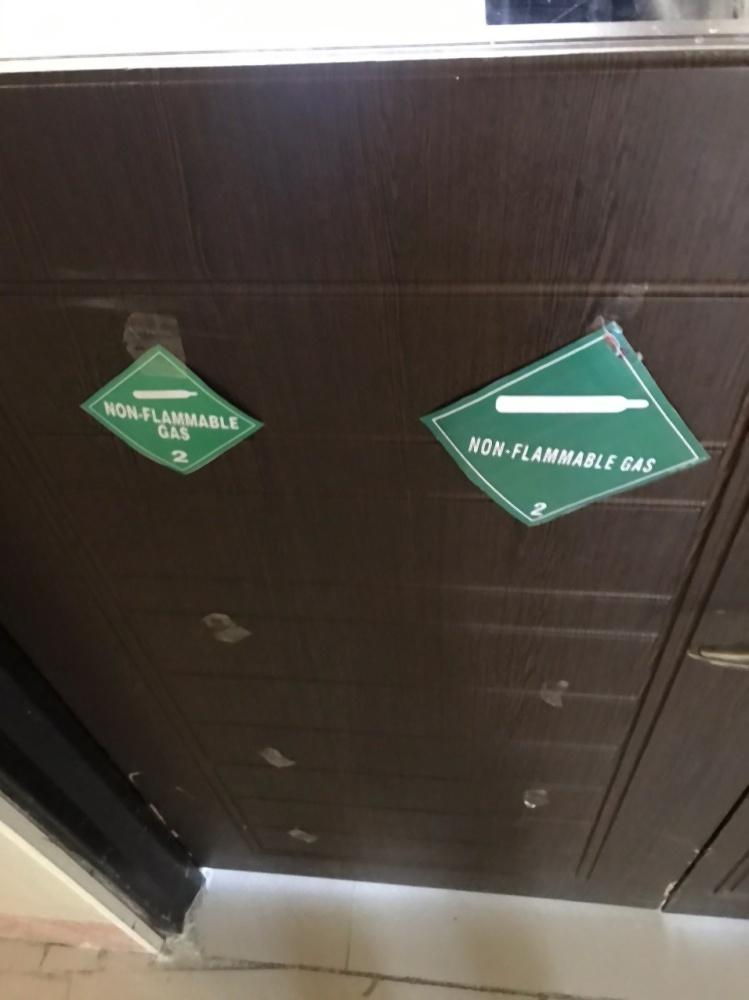non-flammable-gas: (412, 321, 711, 526), (72, 344, 271, 477)
